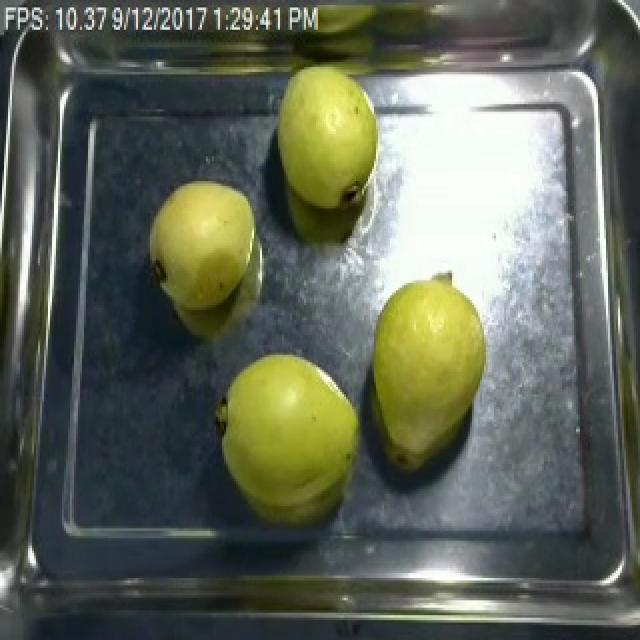Fruit: (212, 342, 372, 536), (362, 268, 496, 479), (268, 57, 390, 218), (144, 174, 264, 318)
